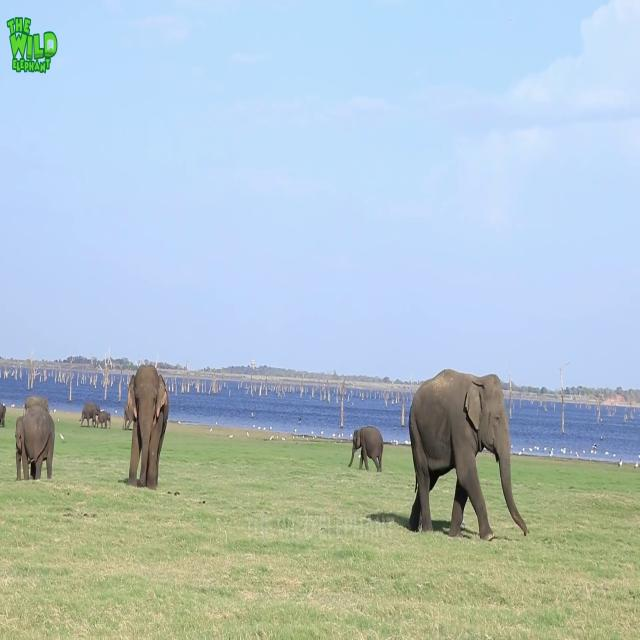Elephant: (408, 368, 528, 540), (123, 364, 169, 489), (15, 405, 55, 480), (348, 425, 383, 472), (22, 395, 49, 416), (79, 402, 100, 426), (95, 410, 111, 429), (0, 401, 6, 426)
